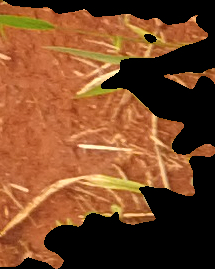soil: (1, 2, 213, 269)
